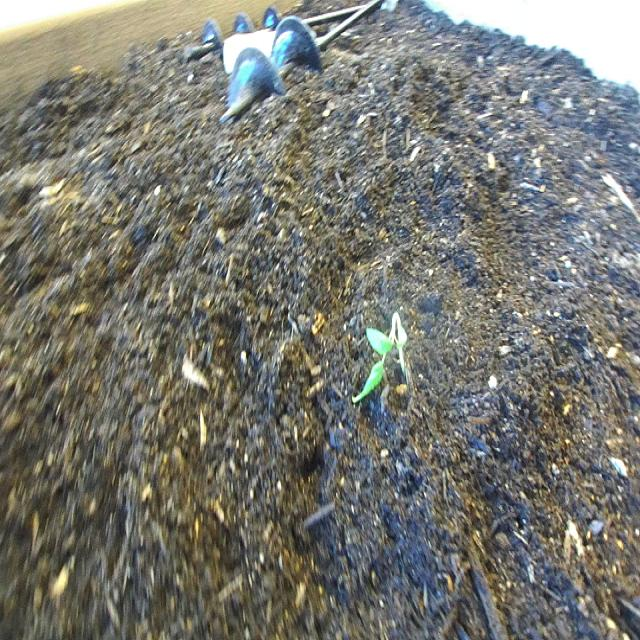Unhealthy: (349, 304, 414, 412)
